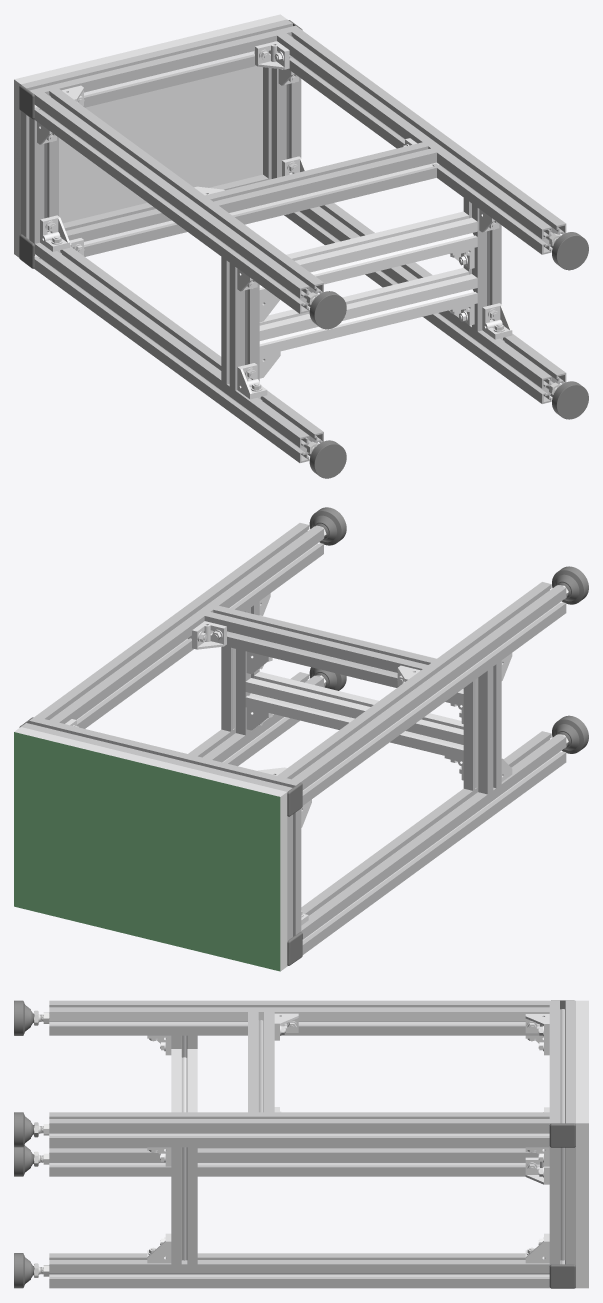
File: Mesa_impresora.glb
3 views of the same model, one above another, from view 1: azimuth 30°, elevation 25°; view 2: azimuth 150°, elevation 25°; view 3: azimuth 270°, elevation 25° (orthographic). The views are drawn at different scales.
Visible parts, largest first — view 1: Mesaa-1, 45x45_06-1, 45x45_06-2, load cell leveling foot.STEP-1/____-____2_1.STEP-1 (×4), Bosch Rexroth Assembly Technologies bf0712e8-da2e-3a23-89c0- (×4); view 2: Mesaa-1, 45x45_06-1, load cell leveling foot.STEP-1/____-____2_1.STEP-1 (×3), Bosch Rexroth Assembly Technologies bf0712e8-da2e-3a23-89c0-; view 3: Mesaa-1, load cell leveling foot.STEP-1/____-____2_1.STEP-1 (×4), Bosch Rexroth Assembly Technologies bf0712e8-da2e-3a23-89c0- (×5), 45x45_06-2, 8020 3054a823-fa12-391d-85c0-3145aee374f3-2, 8020 3054a823-fa12-391d-85c0-3145aee374f3-1.
Boxes of the visible parts, <box> form: Mesaa-1: <box>14,14,566,462</box>; 45x45_06-1: <box>259,268,477,356</box>; 45x45_06-2: <box>259,211,477,299</box>; load cell leveling foot.STEP-1/____-____2_1.STEP-1 (×4): <box>306,232,588,478</box>; Bosch Rexroth Assembly Technologies bf0712e8-da2e-3a23-89c0- (×4): <box>40,41,512,400</box>; Mesaa-1: <box>14,523,566,971</box>; 45x45_06-1: <box>245,671,463,760</box>; load cell leveling foot.STEP-1/____-____2_1.STEP-1 (×3): <box>309,507,588,753</box>; Bosch Rexroth Assembly Technologies bf0712e8-da2e-3a23-89c0-: <box>188,621,226,649</box>; Mesaa-1: <box>49,1000,588,1288</box>; load cell leveling foot.STEP-1/____-____2_1.STEP-1 (×4): <box>14,1000,49,1288</box>; Bosch Rexroth Assembly Technologies bf0712e8-da2e-3a23-89c0- (×5): <box>147,1013,549,1263</box>; 45x45_06-2: <box>171,1049,197,1112</box>; 8020 3054a823-fa12-391d-85c0-3145aee374f3-2: <box>549,1123,575,1147</box>; 8020 3054a823-fa12-391d-85c0-3145aee374f3-1: <box>549,1264,575,1288</box>.
Bounding box in the file's own units: 0.51 × 0.325 × 0.98.
